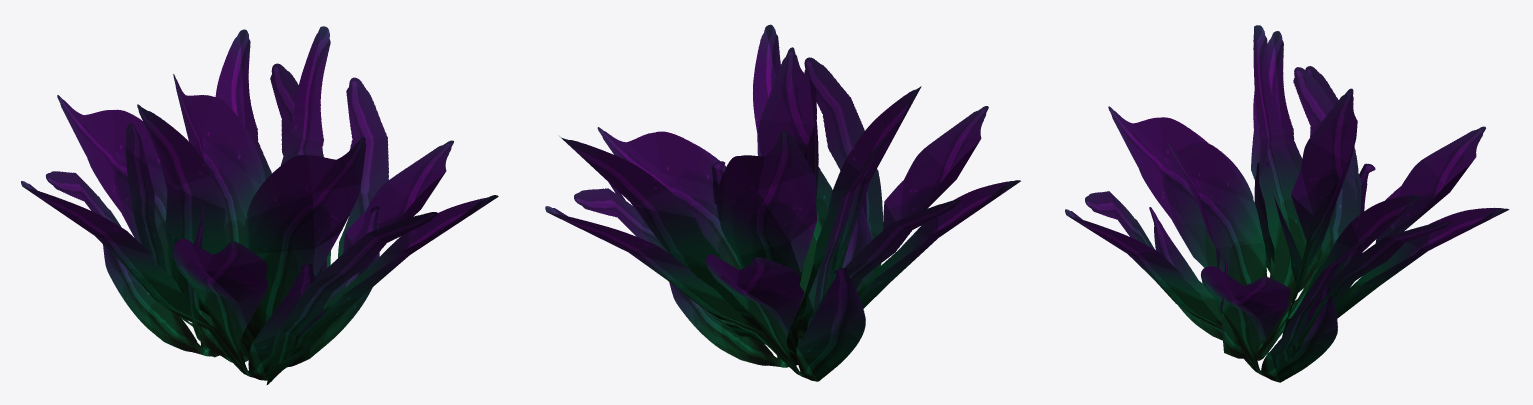
Rendered from strange-vegetation.glb.
The picture shows the model from 3 angles, left to right: view 1: azimuth 30°, elevation 25°; view 2: azimuth 150°, elevation 25°; view 3: azimuth 270°, elevation 25°; orthographic projection. The views are drawn at different scales.
Size of the model in its own units: 1.02 by 0.693 by 0.9523.
Materials: 1 (1 with a texture image).
